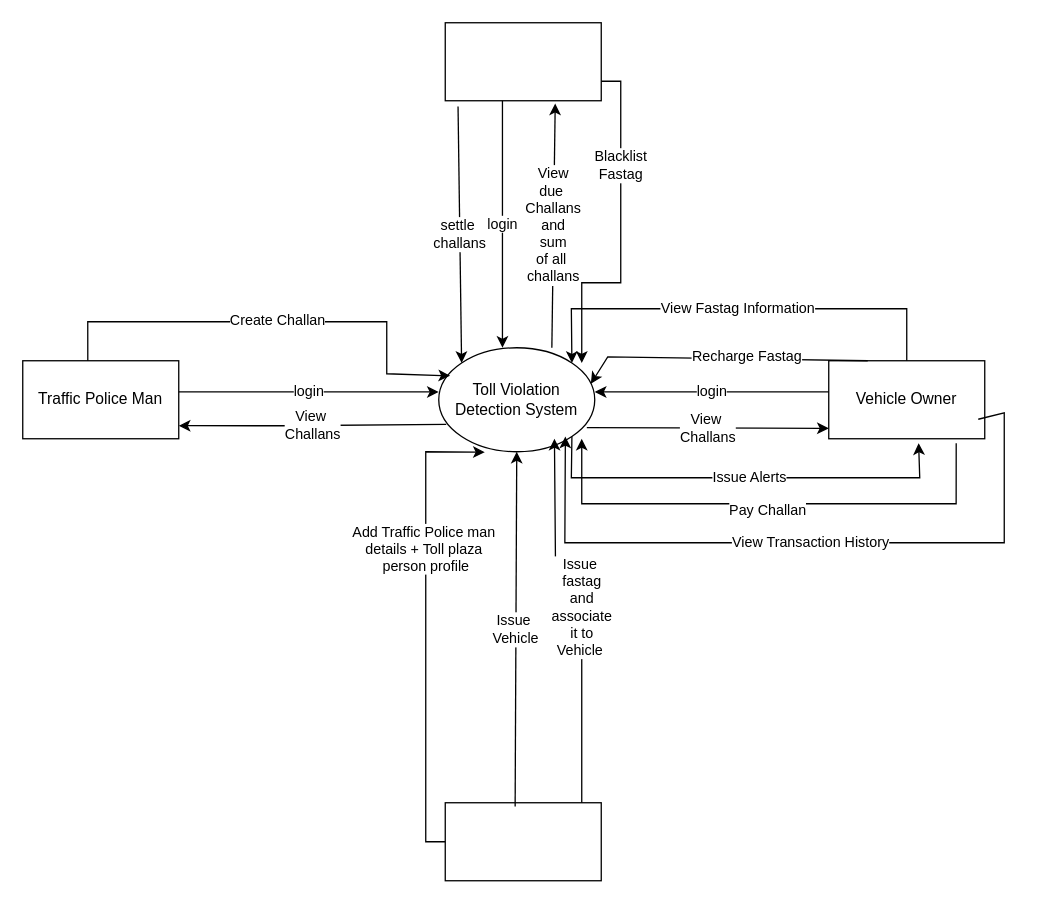
This 1037x903 diagram has some shape labels left out. The shapes that lost their labels are listed below. From the top down, each one's centre as x and y in pixels, then its label:
point 522,61: Toll Plaza Person
point 522,841: RTO
